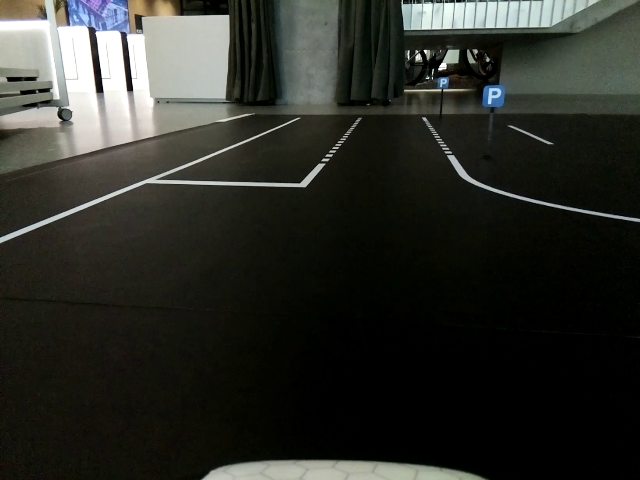park: (483, 86, 506, 107), (439, 77, 450, 88)
